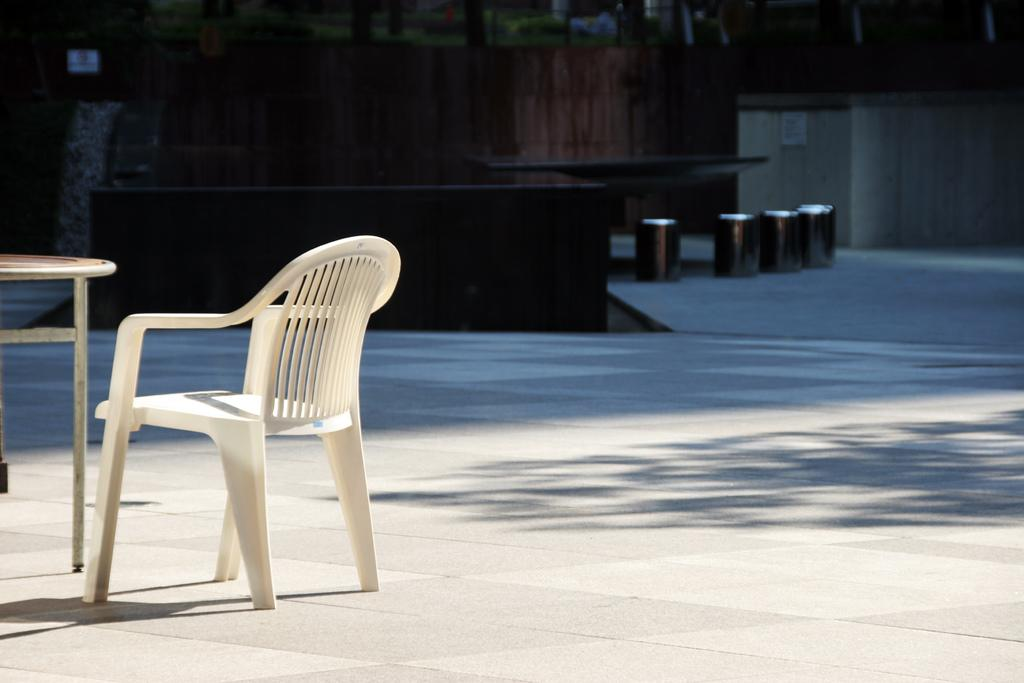Chair: (63, 229, 411, 631)
